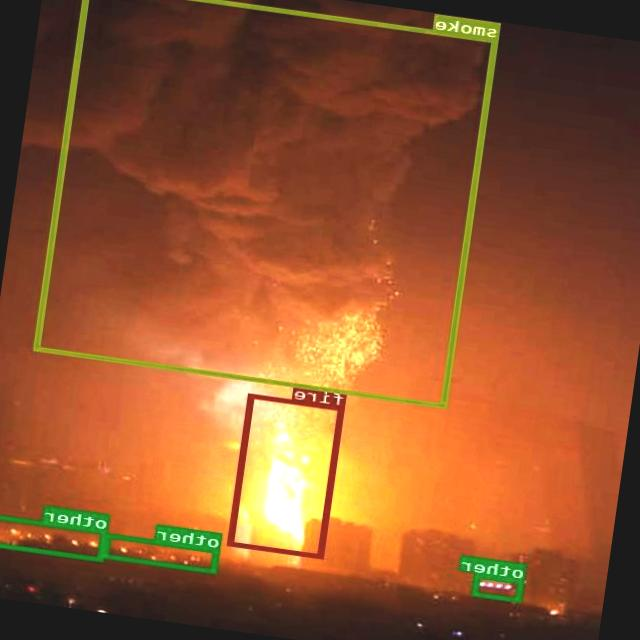fire: (229, 393, 346, 558)
smoke: (34, 0, 500, 408)
